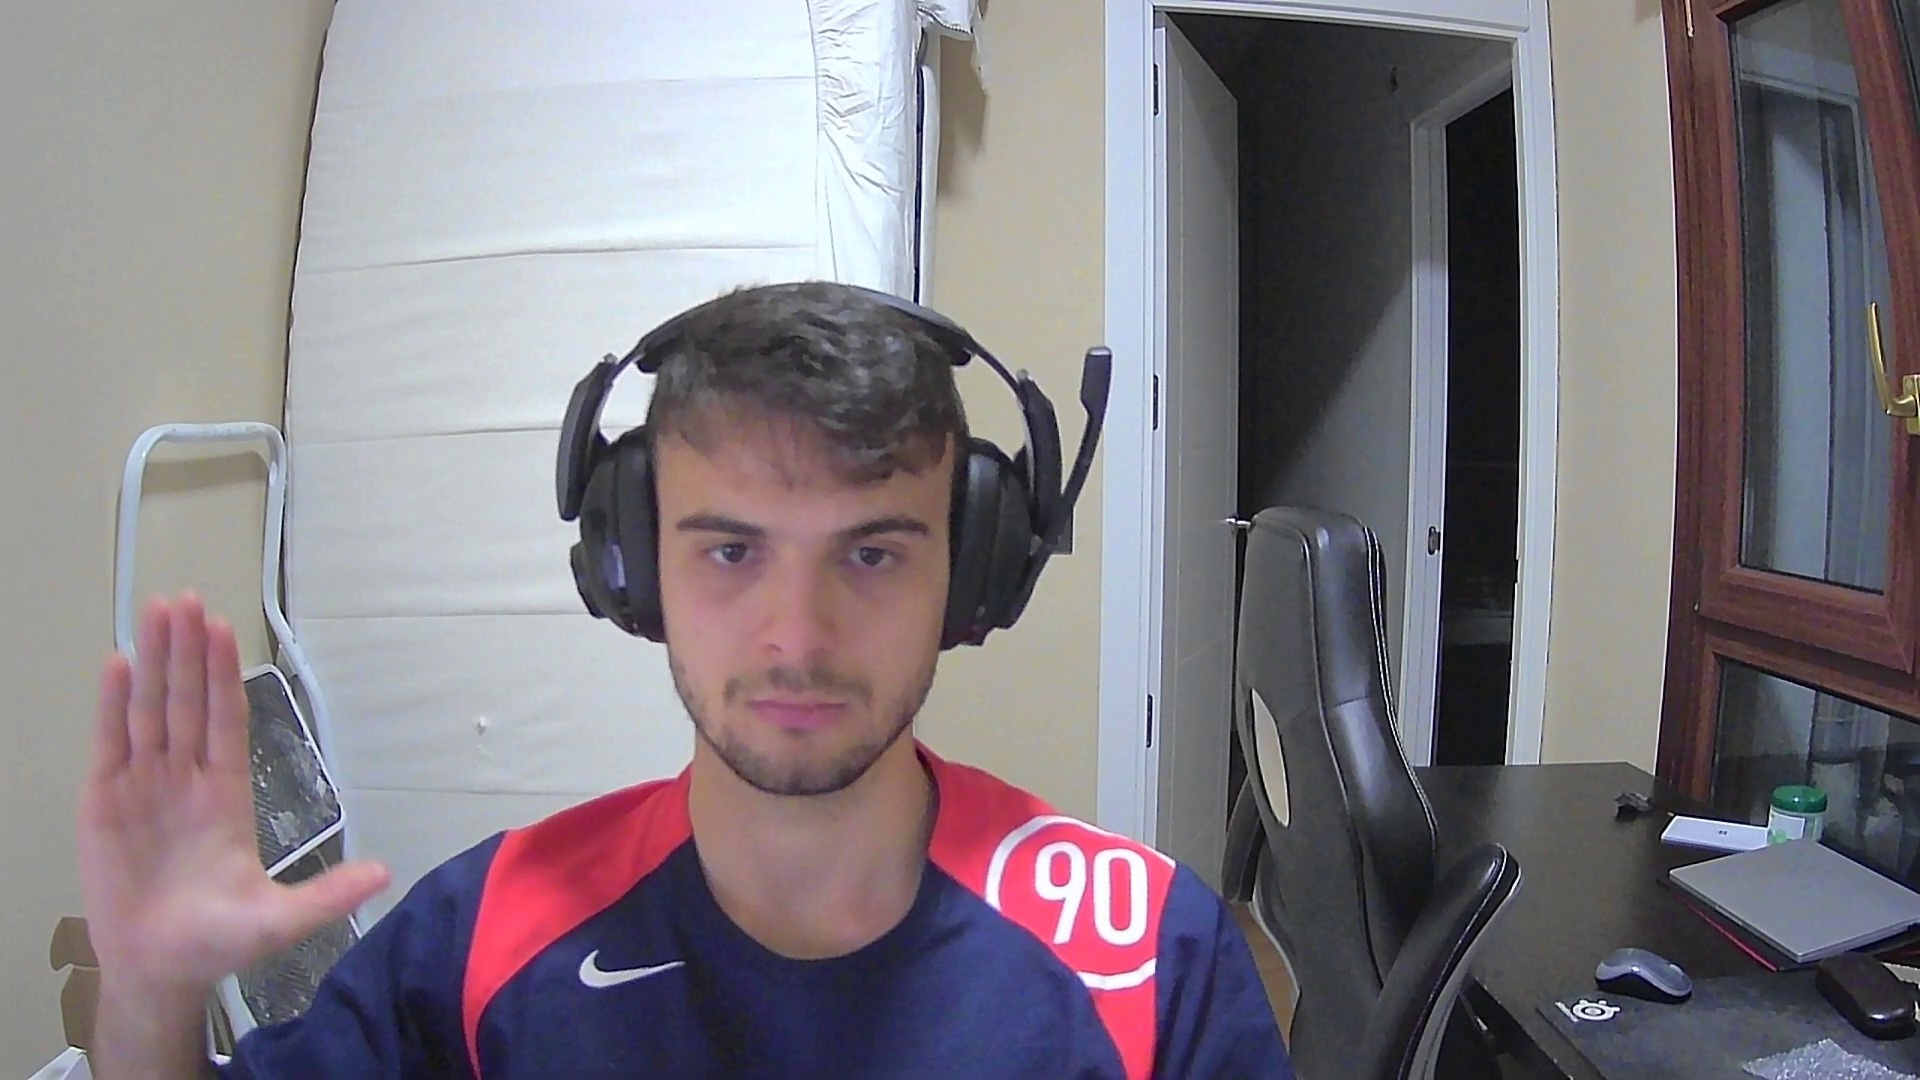Palm: (73, 589, 392, 976)
